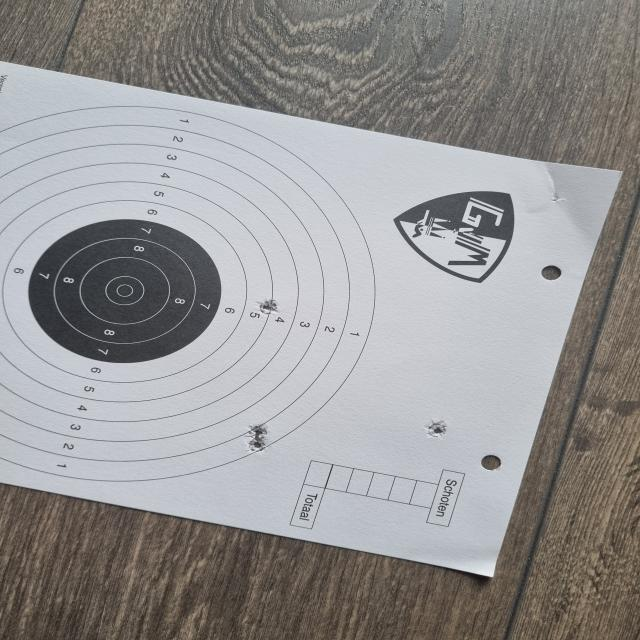0: (425, 418, 449, 438)
1: (248, 440, 268, 453)
2: (245, 424, 268, 439)
5: (256, 298, 280, 314)
Target: (0, 106, 376, 481)
black_contour: (29, 220, 220, 362)
